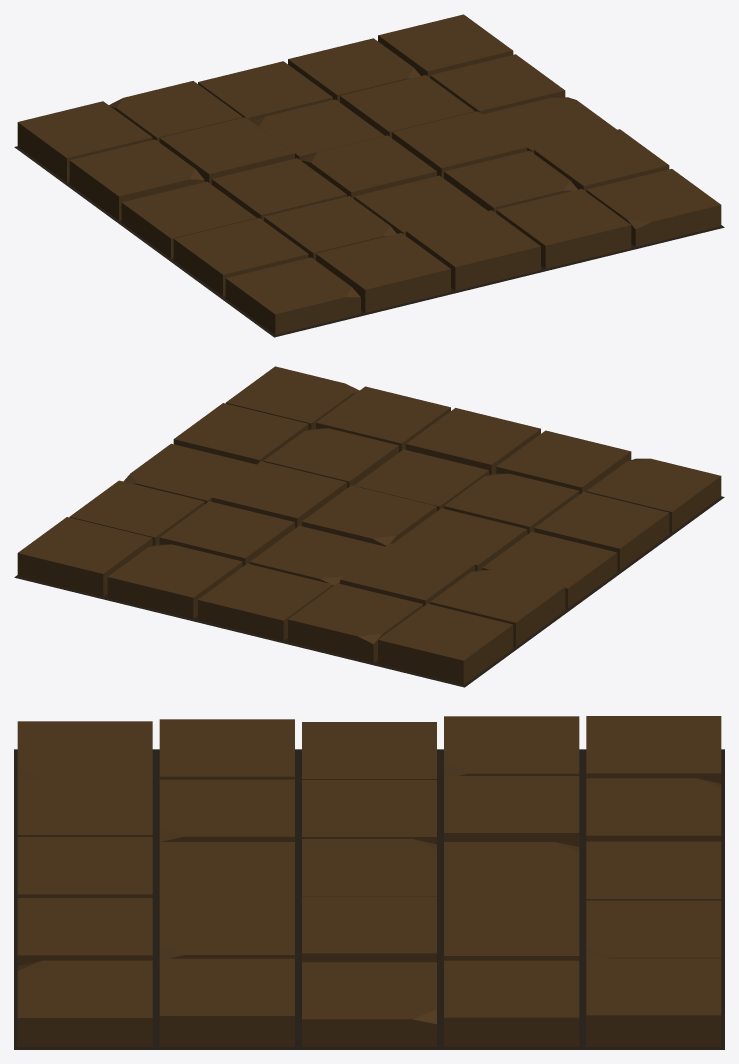
The model's file is tile_floor.fbx.
3 renders of one model, top to bottom at view 1: azimuth 30°, elevation 25°; view 2: azimuth 150°, elevation 25°; view 3: azimuth 270°, elevation 25°, orthographic. The views are drawn at different scales.
Visible parts, largest first — view 1: Cube.008, Cube.011, Cube.007, Cube.004, Cube.022, Cube.014, Cube.016, Cube.009, Cube.015, Cube.013, Cube.020, Cube.003 (+14 smaller); view 2: Cube.016, Cube.020, Cube.017, Cube.018, Cube.019, Cube.009, Cube.014, Cube.008, Cube.015, Cube.007, Cube.003, Cube.002 (+14 smaller); view 3: Plane, Cube.020, Cube.021, Cube.024, Cube.022, Cube.023, Cube.013, Cube.003, Cube.004, Cube.016, Cube.017, Cube.002 (+14 smaller).
Part boxes in pixels (x1,y1,x2,y2): Cube.008: (225, 257, 360, 334); Cube.011: (316, 233, 450, 312); Cube.007: (406, 210, 540, 290); Cube.004: (496, 189, 631, 268); Cube.022: (586, 169, 721, 246); Cube.014: (69, 139, 204, 220); Cube.016: (17, 101, 152, 182); Cube.009: (173, 218, 308, 296); Cube.015: (121, 181, 256, 258); Cube.013: (159, 117, 294, 184); Cube.020: (378, 14, 513, 77); Cube.003: (392, 111, 527, 178); Cube.016: (378, 603, 513, 684); Cube.020: (17, 517, 152, 596); Cube.017: (288, 583, 422, 662); Cube.018: (107, 544, 242, 618); Cube.019: (198, 563, 332, 640); Cube.009: (534, 492, 669, 570); Cube.014: (430, 569, 565, 646); Cube.008: (586, 458, 721, 532); Cube.015: (482, 531, 617, 608); Cube.007: (406, 408, 540, 474); Cube.003: (211, 461, 346, 528); Cube.002: (159, 501, 294, 566); Plane: (14, 749, 724, 1049); Cube.020: (586, 958, 721, 1046); Cube.021: (159, 958, 294, 1046); Cube.024: (444, 960, 579, 1046); Cube.022: (17, 960, 152, 1046); Cube.023: (302, 962, 436, 1046); Cube.013: (444, 776, 579, 846); Cube.003: (302, 896, 436, 962); Cube.004: (17, 898, 152, 965); Cube.016: (586, 716, 721, 783); Cube.017: (586, 778, 721, 841); Cube.002: (444, 898, 579, 960).
Size of the model in its own units: 1000 by 54.26 by 1000.
